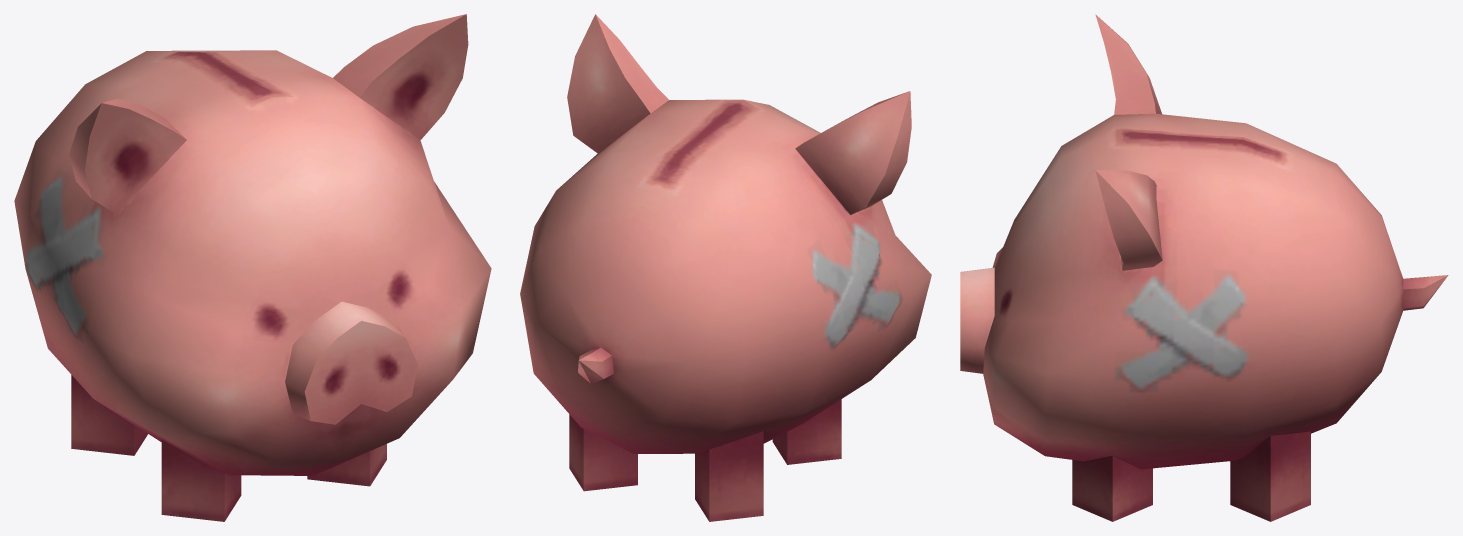
Rendered from rosie.fbx.
The picture shows the model from 3 angles, left to right: view 1: azimuth 30°, elevation 25°; view 2: azimuth 150°, elevation 25°; view 3: azimuth 270°, elevation 25°; orthographic projection. The views are drawn at different scales.
Parts seen in each view (by area): view 1: s4studio_mesh_1; view 2: s4studio_mesh_1; view 3: s4studio_mesh_1.
Part boxes in pixels (x1,y1,x2,y2): s4studio_mesh_1: [14, 14, 491, 521]; s4studio_mesh_1: [520, 14, 931, 521]; s4studio_mesh_1: [960, 14, 1448, 521].
Bounding box in the file's own units: 22.01 × 24.23 × 28.08.
Materials: 1 (1 with a texture image).
